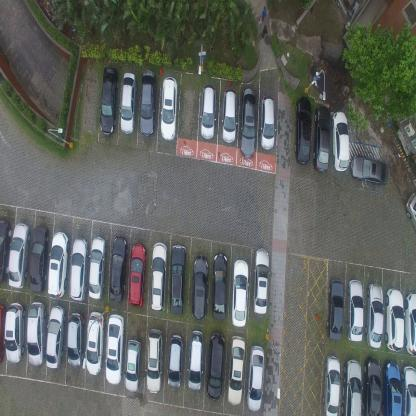car: (7, 221, 30, 290), (226, 334, 247, 407), (47, 230, 69, 299), (28, 226, 50, 294), (104, 314, 125, 385), (99, 64, 120, 135), (26, 302, 47, 368), (45, 305, 66, 370), (245, 344, 265, 412), (206, 330, 225, 401), (340, 358, 363, 416), (351, 153, 389, 188), (85, 310, 105, 376), (5, 302, 26, 364), (293, 94, 311, 166), (169, 244, 187, 316), (109, 235, 128, 303), (239, 87, 257, 158), (366, 280, 384, 350), (70, 236, 89, 302), (128, 241, 147, 307), (312, 104, 330, 173), (362, 354, 382, 416), (321, 353, 341, 415), (231, 260, 249, 328), (150, 240, 167, 311), (191, 255, 209, 322), (252, 245, 269, 315), (386, 286, 404, 352), (66, 312, 86, 370), (211, 252, 228, 320), (88, 236, 106, 300), (145, 328, 162, 394), (327, 276, 344, 342), (139, 70, 156, 136), (160, 75, 177, 141), (382, 359, 402, 415), (332, 110, 350, 172), (120, 69, 137, 133), (166, 334, 184, 393), (187, 330, 204, 392), (347, 277, 363, 342), (200, 83, 218, 139), (221, 87, 238, 143), (124, 337, 141, 392), (259, 95, 276, 150), (400, 364, 416, 416), (404, 290, 416, 357), (0, 218, 12, 285), (404, 189, 416, 234), (0, 303, 7, 364)
